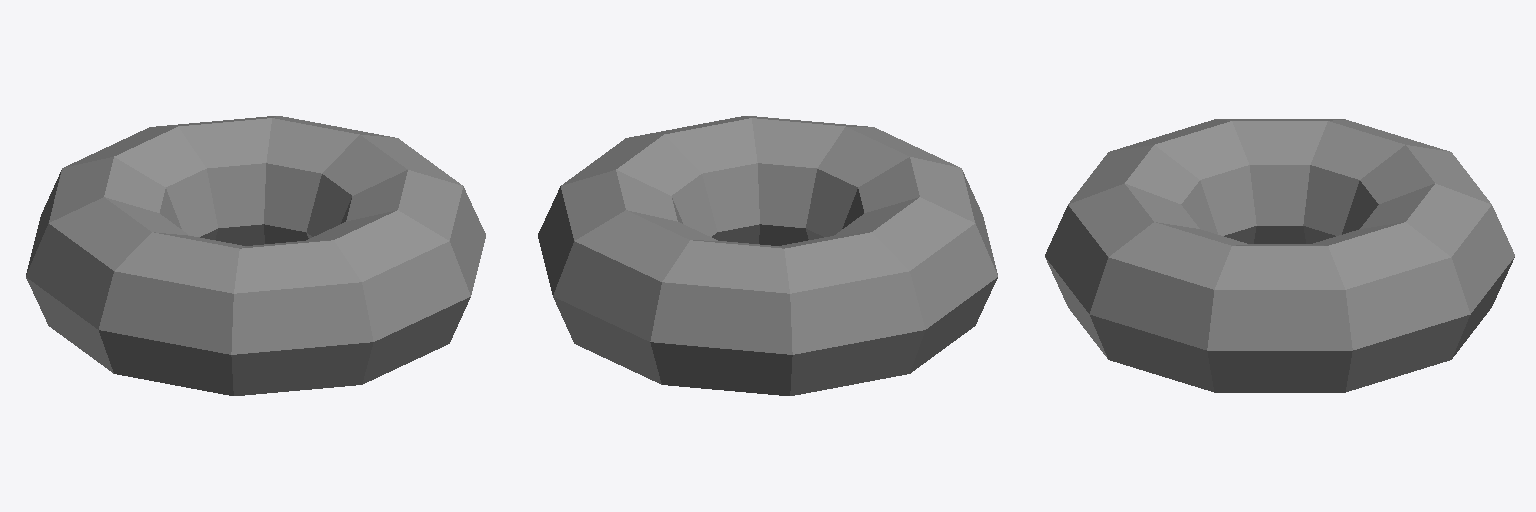
The model's file is dona.obj.
3 renders of one model, left to right at view 1: azimuth 30°, elevation 25°; view 2: azimuth 150°, elevation 25°; view 3: azimuth 270°, elevation 25°, orthographic.
Visible parts, largest first — view 1: dona; view 2: dona; view 3: dona.
Boxes of the visible parts, x1,y1,x2,y2 form: dona: [26, 116, 485, 395]; dona: [538, 116, 997, 395]; dona: [1045, 119, 1514, 392].
Bounding box in the file's own units: 31.16 × 11.15 × 32.76.